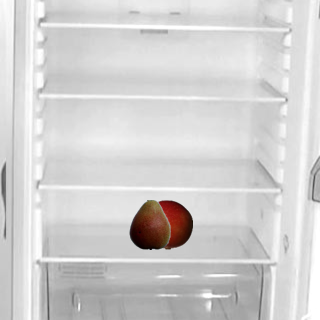Apple Braeburn: (142, 199, 192, 249)
Pear Forelle: (124, 199, 174, 249)
